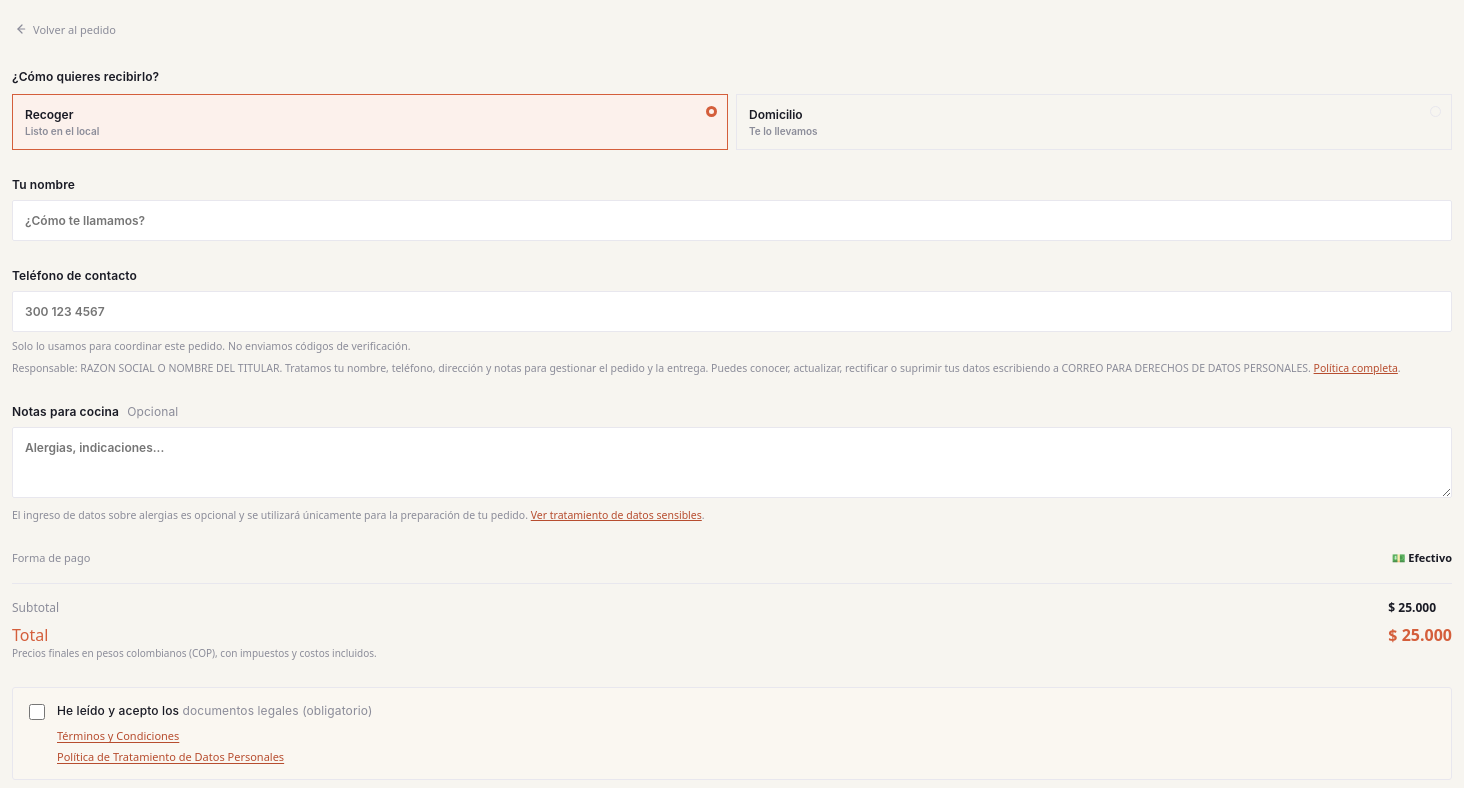
Scenario: checkout consent and phone › requires a phone even for pickup orders
The width and height of the screenshot is (1464, 788).
In the field with placeholder "¿Cómo te llamamos?": (732, 220) top-left (12, 200), bottom-right (1452, 241), type "Ana"
(page scrolled)
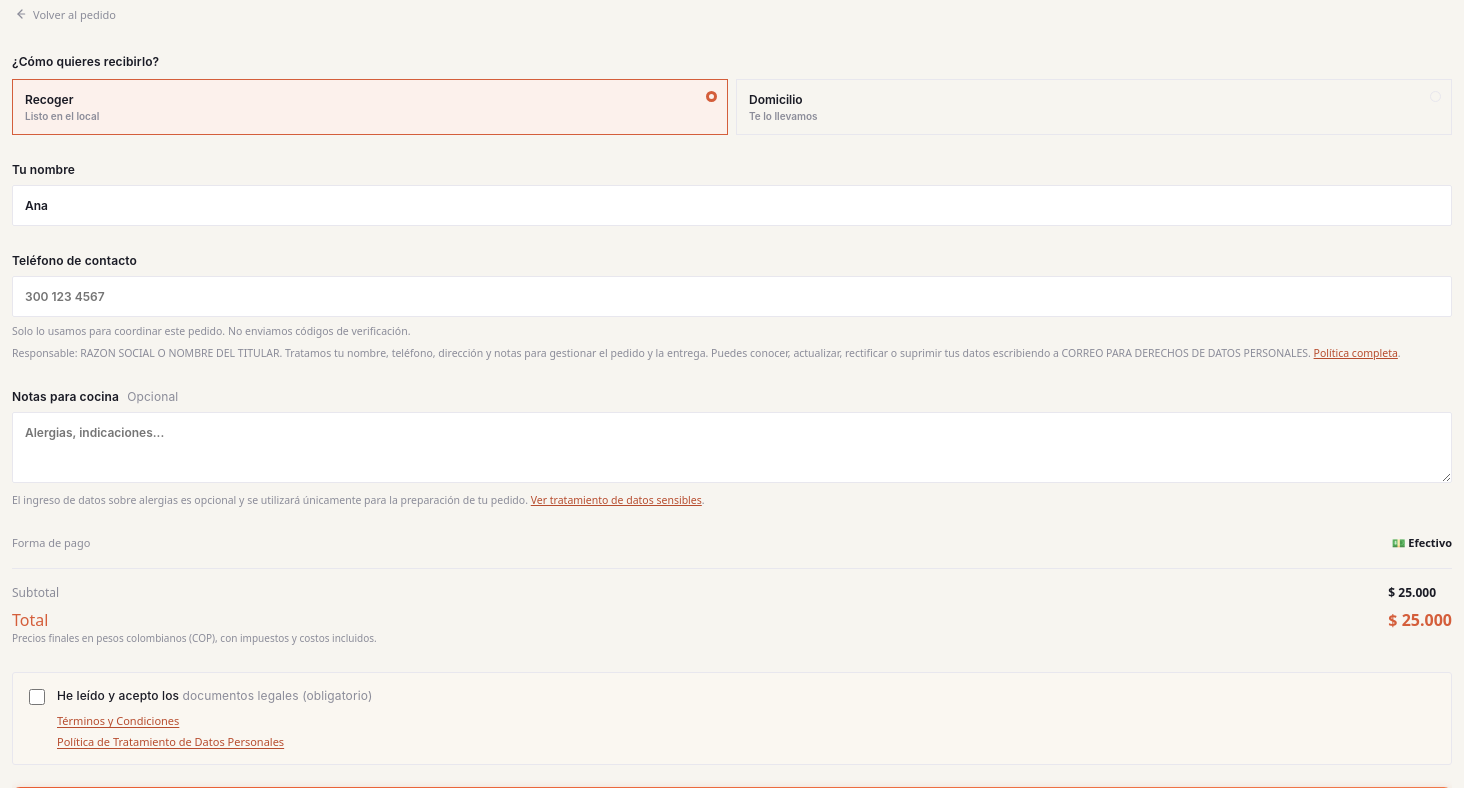
Submit the form with class "checkout-form"
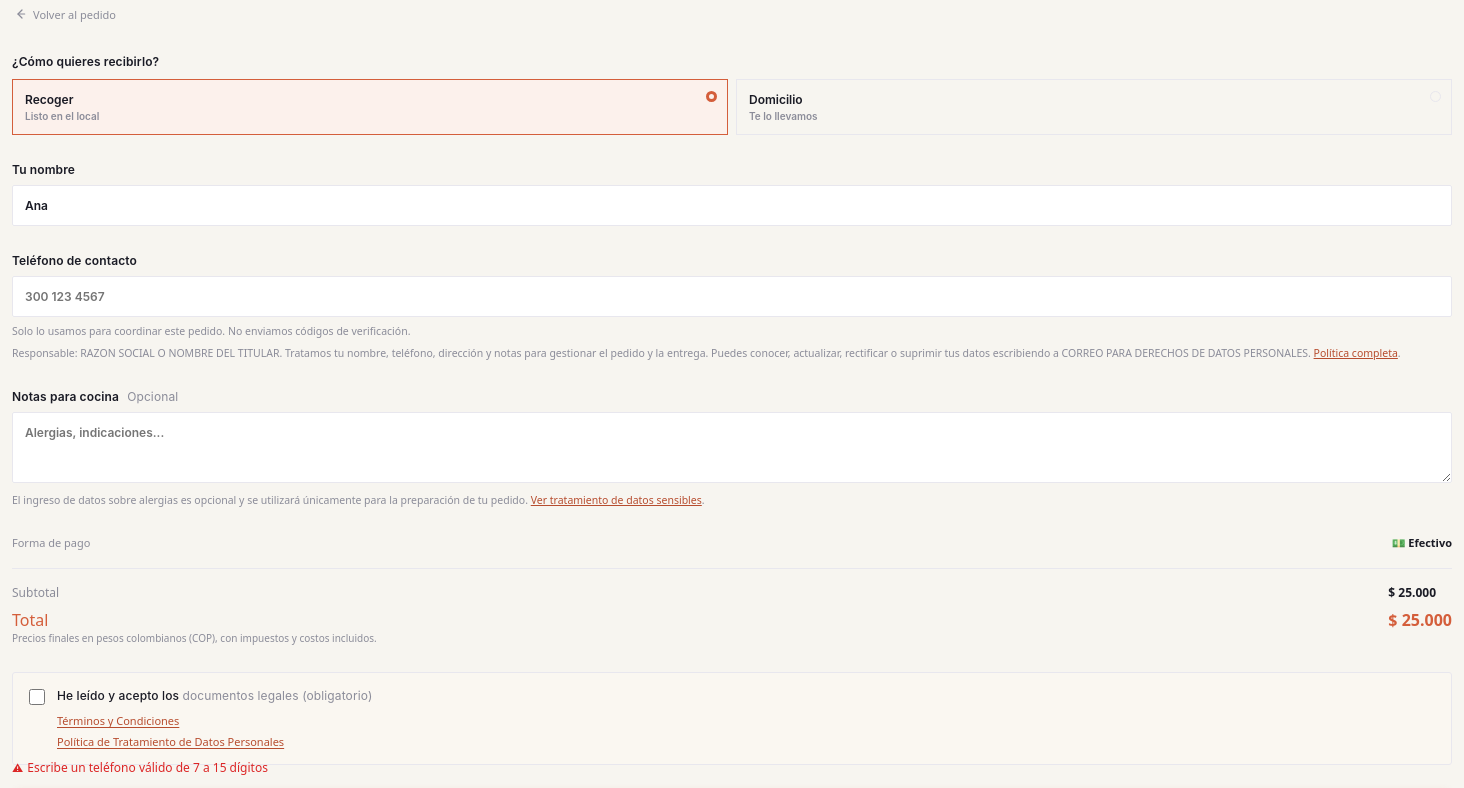
Expected: the message shows "teléfono", top-left (27, 760), bottom-right (268, 776)
